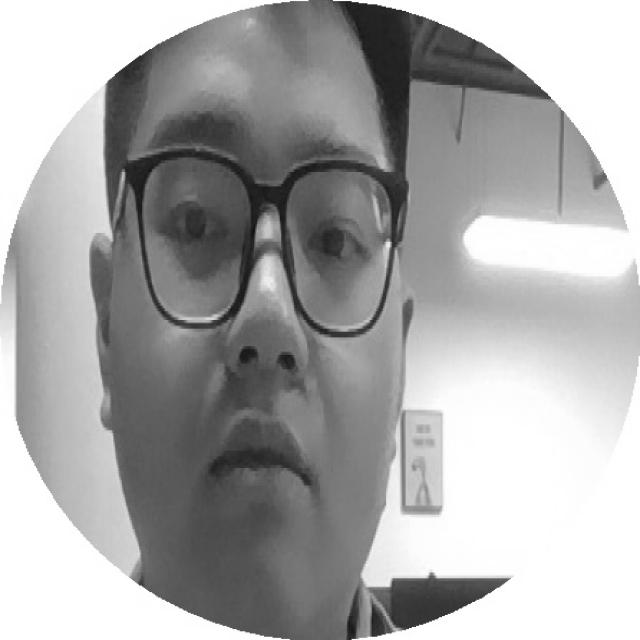real: (85, 39, 413, 602), (129, 144, 395, 322)
